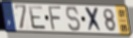7: (14, 4, 28, 31)
8: (102, 8, 117, 33)
E: (27, 5, 48, 32)
F: (48, 6, 64, 32)
S: (65, 6, 82, 33)
X: (84, 6, 104, 34)
